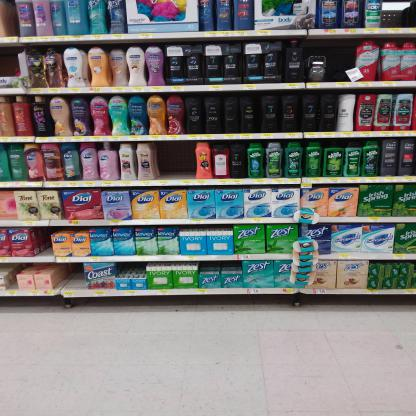Void: (155, 142, 194, 178), (328, 42, 354, 81), (62, 266, 89, 288), (202, 261, 235, 274), (121, 263, 143, 278)
